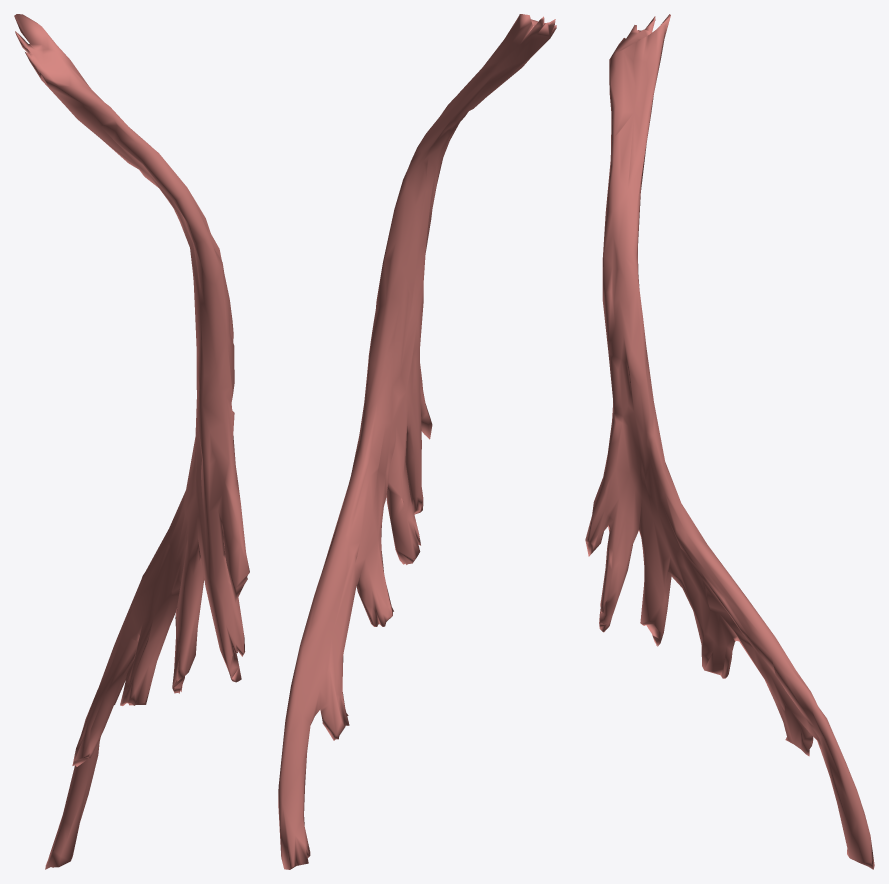
The picture shows the model from 3 angles, left to right: view 1: azimuth 30°, elevation 25°; view 2: azimuth 150°, elevation 25°; view 3: azimuth 270°, elevation 25°; orthographic projection. The views are drawn at different scales.
Visible parts, largest first — view 1: ZA_c2666971286785cf; view 2: ZA_c2666971286785cf; view 3: ZA_c2666971286785cf.
Part boxes in pixels (x1,y1,x2,y2): ZA_c2666971286785cf: (14,14,249,869); ZA_c2666971286785cf: (278,14,556,869); ZA_c2666971286785cf: (585,14,874,869).
Bounding box in the file's own units: 0.0353 × 0.1572 × 0.0522.
